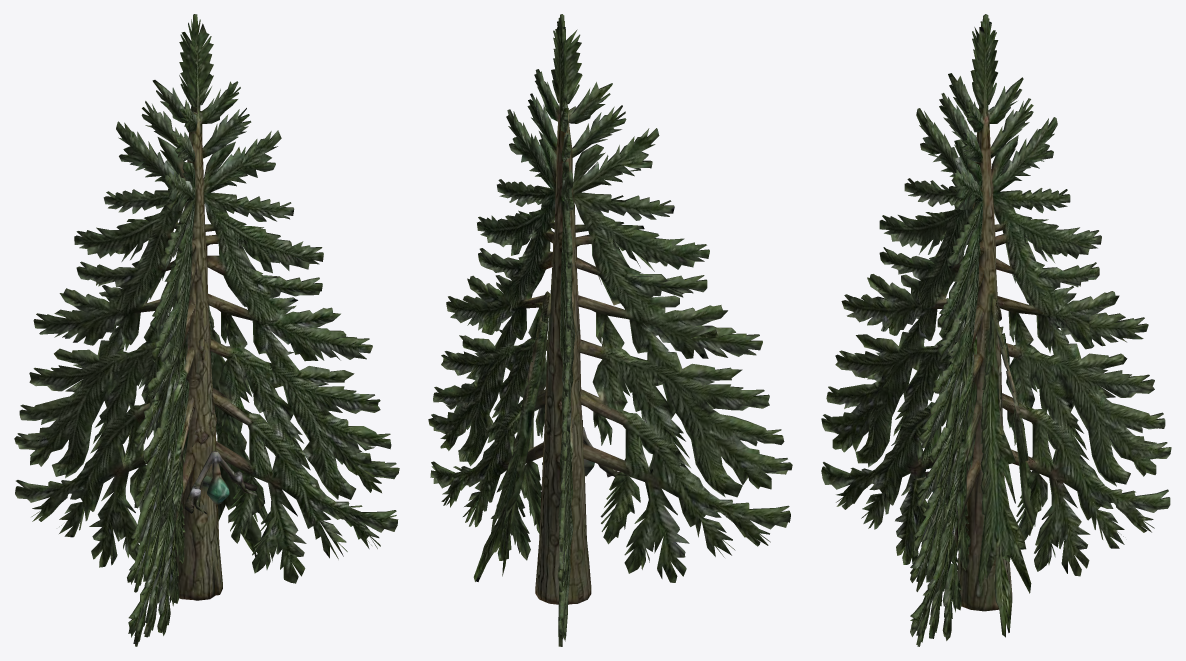
File: tr_pine_b.glb
The picture shows the model from 3 angles, left to right: view 1: azimuth 30°, elevation 25°; view 2: azimuth 150°, elevation 25°; view 3: azimuth 270°, elevation 25°; orthographic projection.
Visible parts, largest first — view 1: tr_pine_b; view 2: tr_pine_b; view 3: tr_pine_b.
Part boxes in pixels (x1,y1,x2,y2): tr_pine_b: (14, 14, 399, 646); tr_pine_b: (428, 14, 792, 646); tr_pine_b: (821, 14, 1171, 646).
Bounding box in the file's own units: 7.5 × 13 × 7.05.
Materials: 1 (1 with a texture image).
